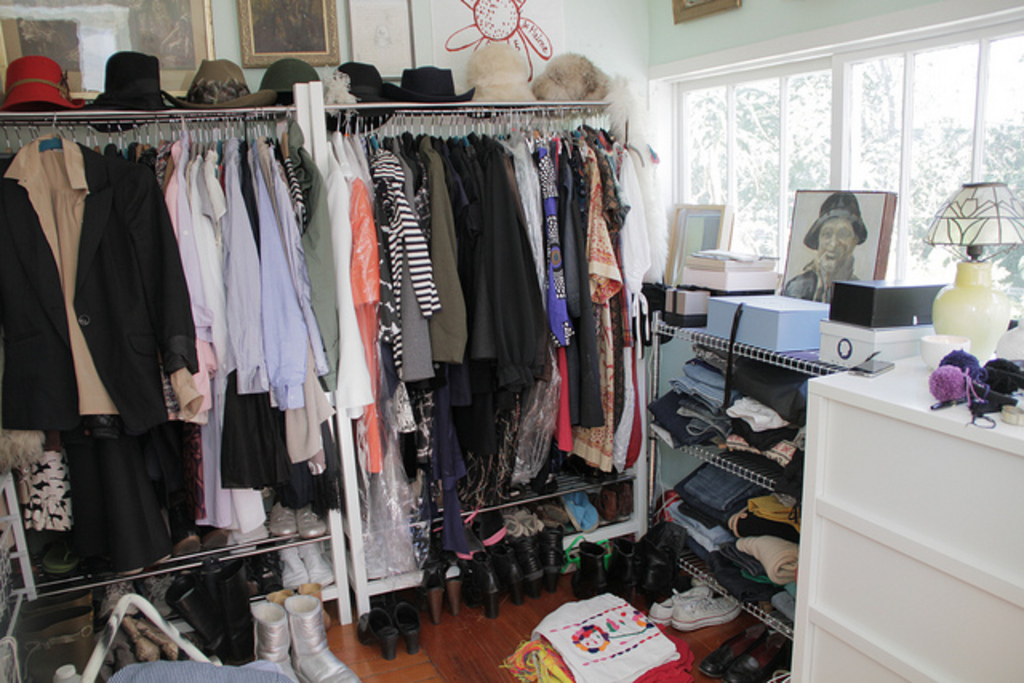cabinet door: (815, 526, 1024, 668), (827, 405, 1024, 529), (801, 624, 894, 683)
